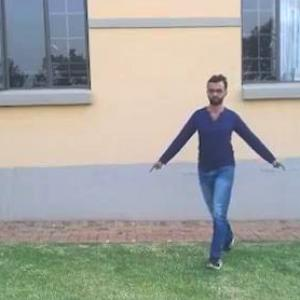land: (161, 75, 286, 248)
